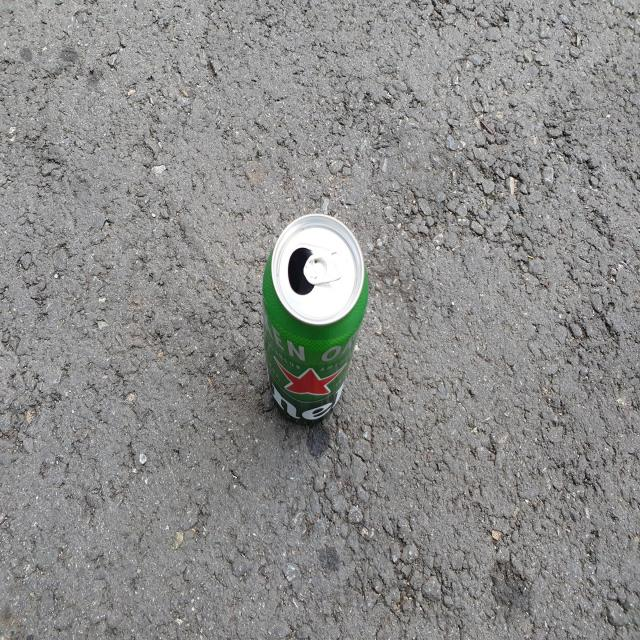can: (263, 214, 369, 422)
